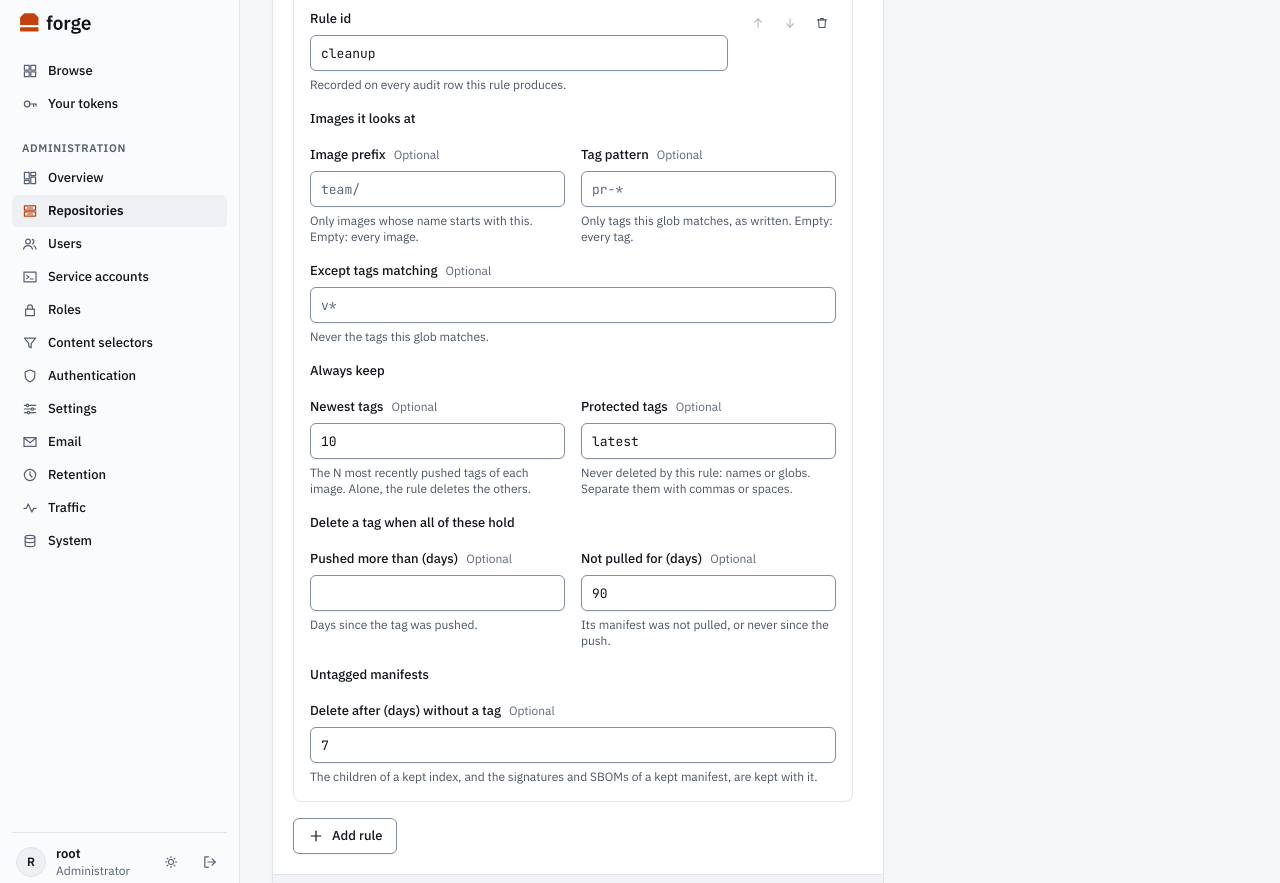
it: retention screen › edits image rules on a docker repository
This screenshot has width=1280, height=883.
(page scrolled)
Type ", stable  main" into the field labelled "Protected tags Optional".
click(708, 441); type(", stable  main")  # box [581,423,836,459]
(page scrolled)
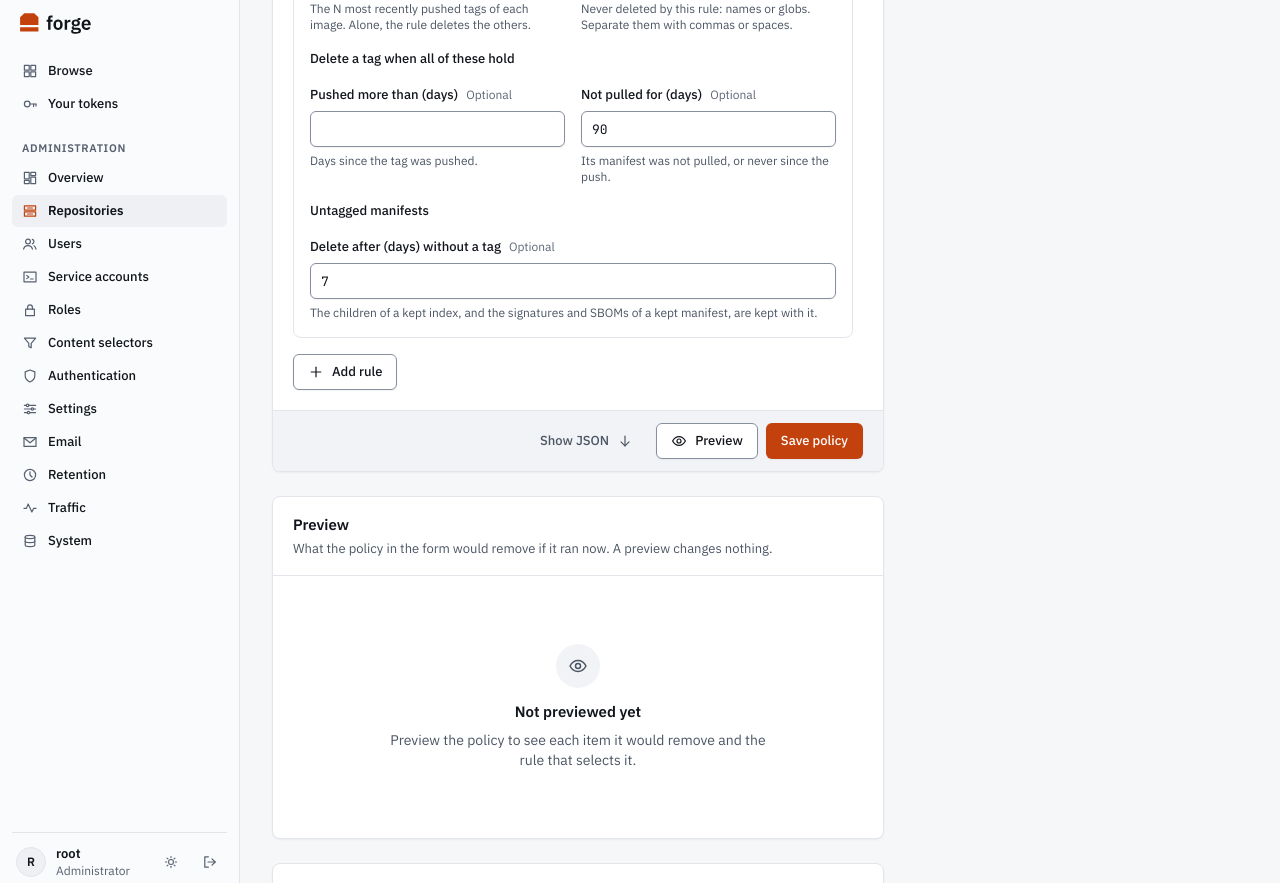
Click the button "Preview".
click(707, 441)  # box [656,423,758,459]
(page scrolled)
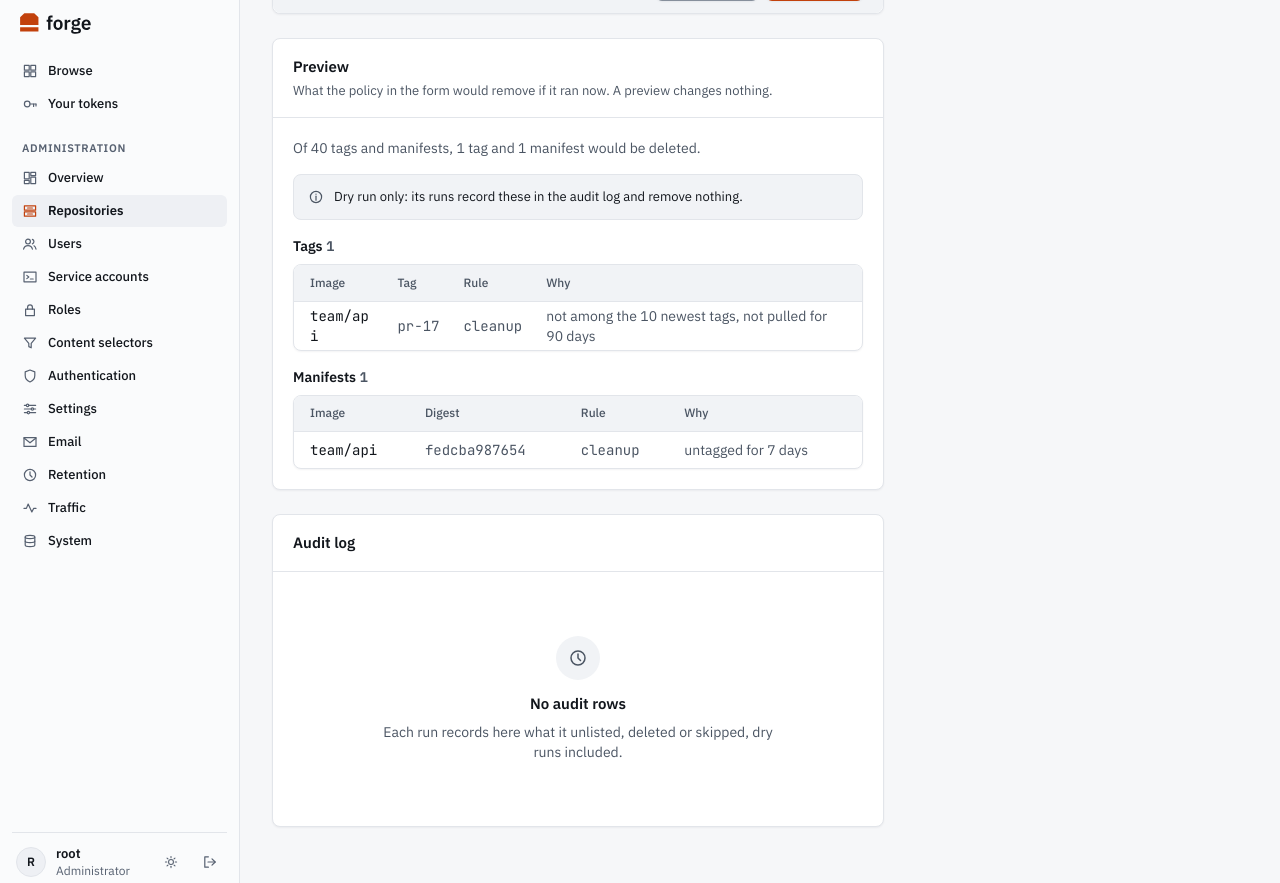
Result: the text "Of 40 tags and manifests, 1 tag and 1 manifest would be deleted." is shown at [293,139,701,157]
Result: the text "not among the 10 newest tags, not pulled for 90 days" is shown at [534,302,862,350]
Result: the text "untagged for 7 days" is shown at [672,432,862,468]
